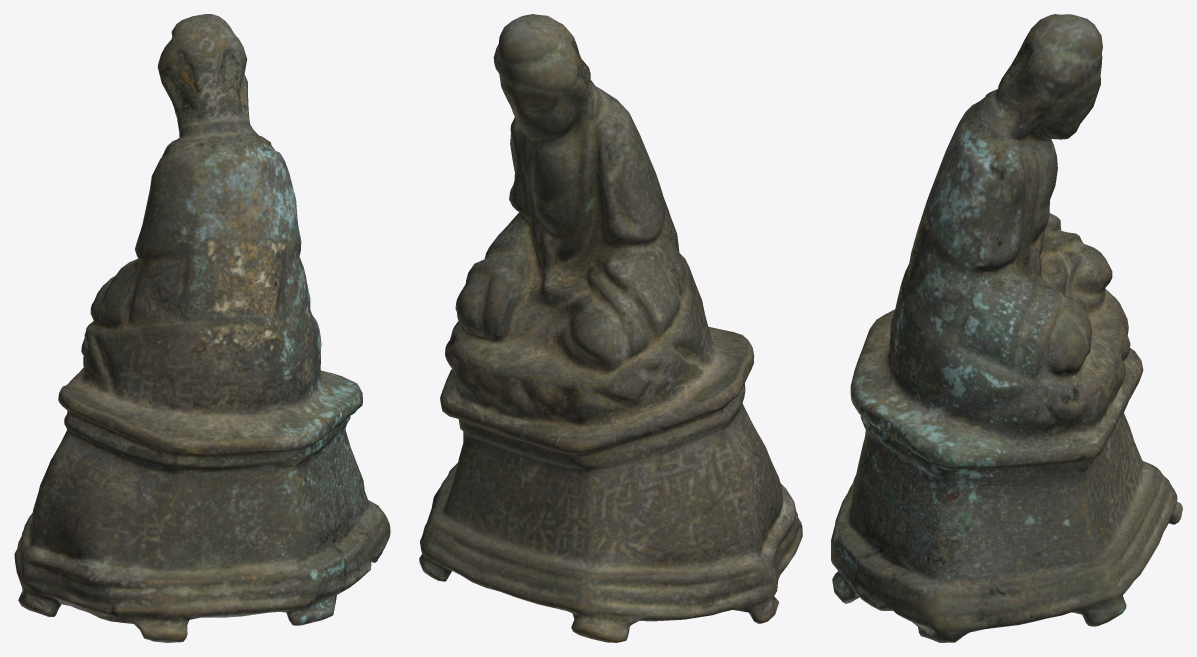
File: MTY005107.glb
3 renders of one model, left to right at view 1: azimuth 30°, elevation 25°; view 2: azimuth 150°, elevation 25°; view 3: azimuth 270°, elevation 25°, orthographic. The views are drawn at different scales.
Parts seen in each view (by area): view 1: MTY005107; view 2: MTY005107; view 3: MTY005107.
Boxes of the visible parts, x1,y1,x2,y2 form: MTY005107: (14,14,390,642); MTY005107: (419,14,802,642); MTY005107: (831,14,1182,642).
Size of the model in its own units: 32.16 by 49.37 by 27.49.
1 material, 1 textured.
